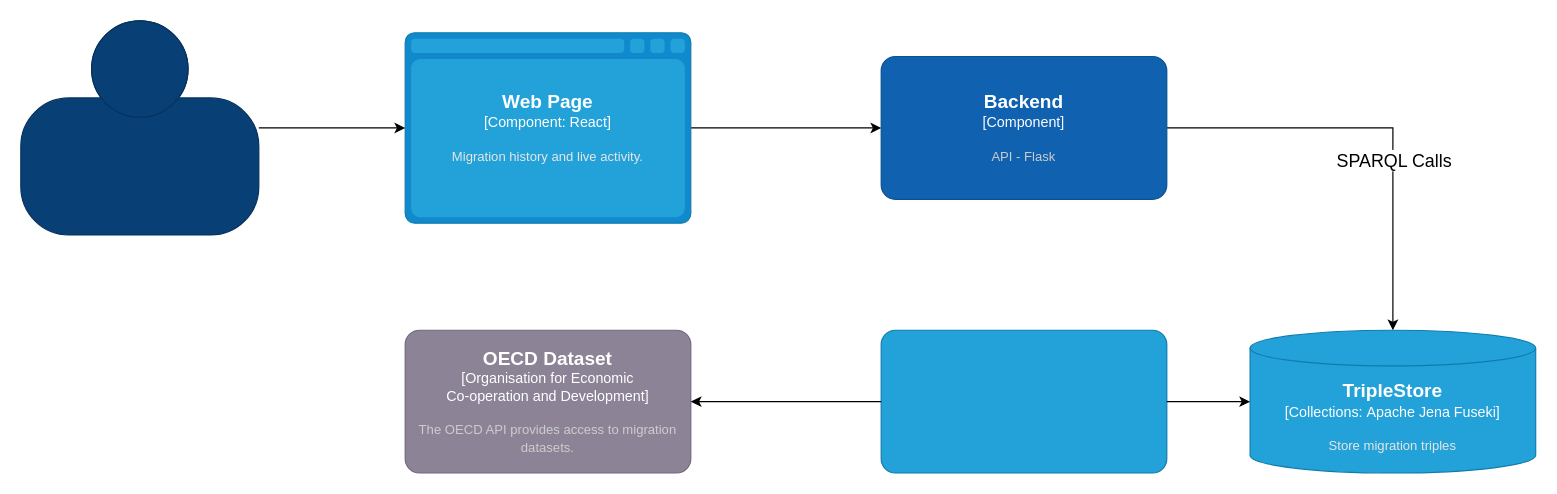
This 1557x494 diagram has some shape labels left out. The centre of each missing label's shape, as x and y in pixels:
"Data Preprocesor [Helper: Python] Parse datasets and create RDF files" goes at point (1023, 401).
"User [Person] Basic user" goes at point (139, 127).
